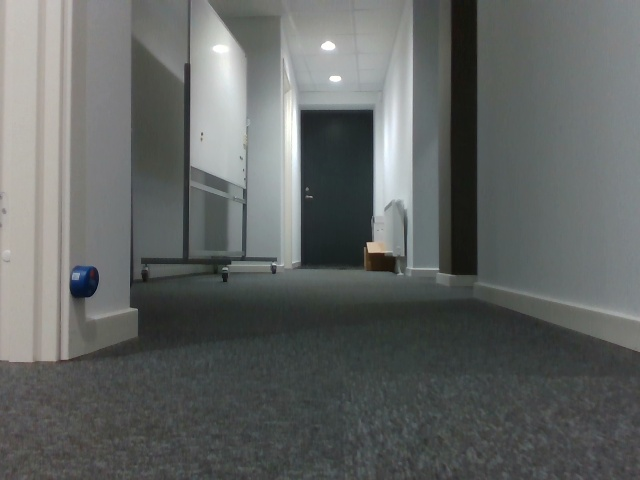alfa: (66, 262, 99, 300)
